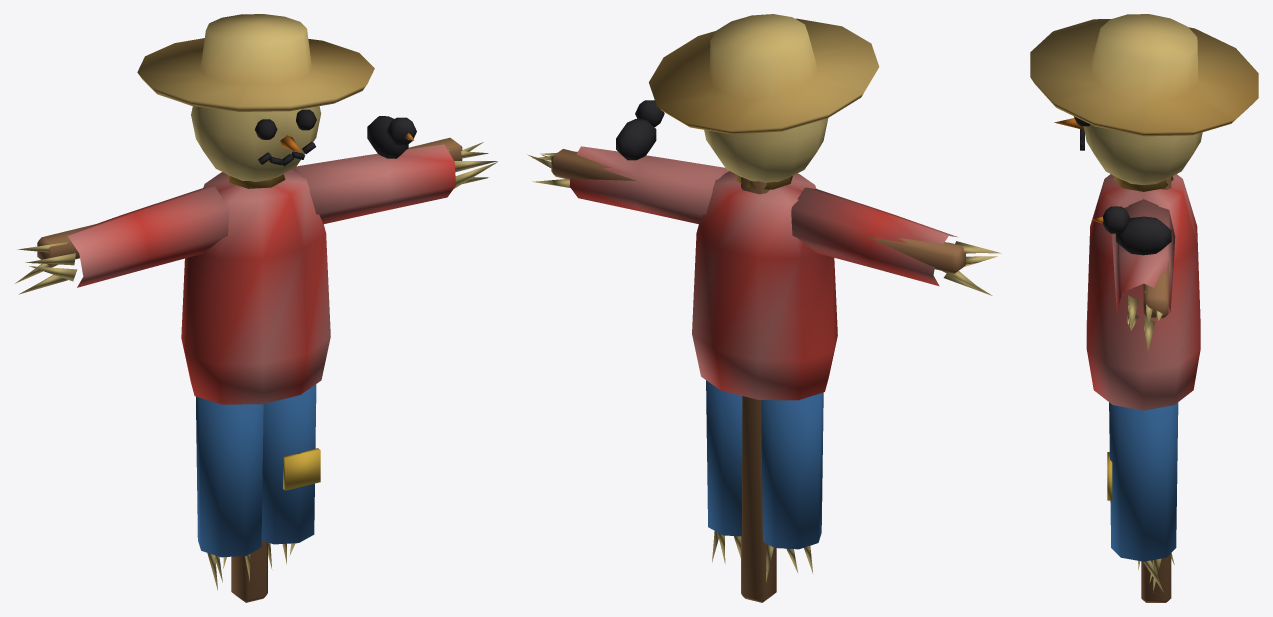
The model's file is prop.scarecrow.glb.
3 views of the same model, side by side, from view 1: azimuth 30°, elevation 25°; view 2: azimuth 150°, elevation 25°; view 3: azimuth 270°, elevation 25° (orthographic). The views are drawn at different scales.
Visible parts, largest first — view 1: scarecrow; view 2: scarecrow; view 3: scarecrow.
Boxes of the visible parts, x1=… form: scarecrow: x1=15, y1=14, x2=497, y2=602; scarecrow: x1=527, y1=14, x2=1001, y2=602; scarecrow: x1=1030, y1=14, x2=1258, y2=602.
Size of the model in its own units: 2.16 by 2.5 by 0.9113.
